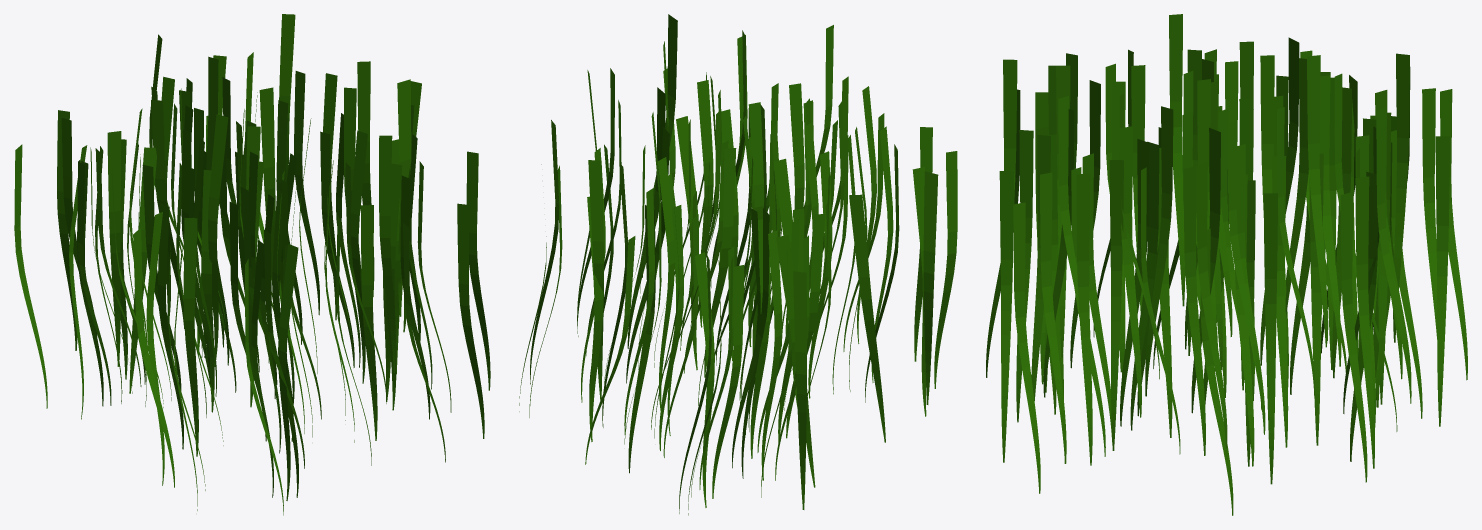
The model's file is grass 1.fbx.
The picture shows the model from 3 angles, left to right: view 1: azimuth 30°, elevation 25°; view 2: azimuth 150°, elevation 25°; view 3: azimuth 270°, elevation 25°; orthographic projection. The views are drawn at different scales.
Parts seen in each view (by area): view 1: Плоскость; view 2: Плоскость; view 3: Плоскость.
Part boxes in pixels (x1,y1,x2,y2): Плоскость: (14,14,490,515); Плоскость: (519,14,957,515); Плоскость: (986,14,1467,515).
Size of the model in its own units: 92.83 by 101 by 107.
